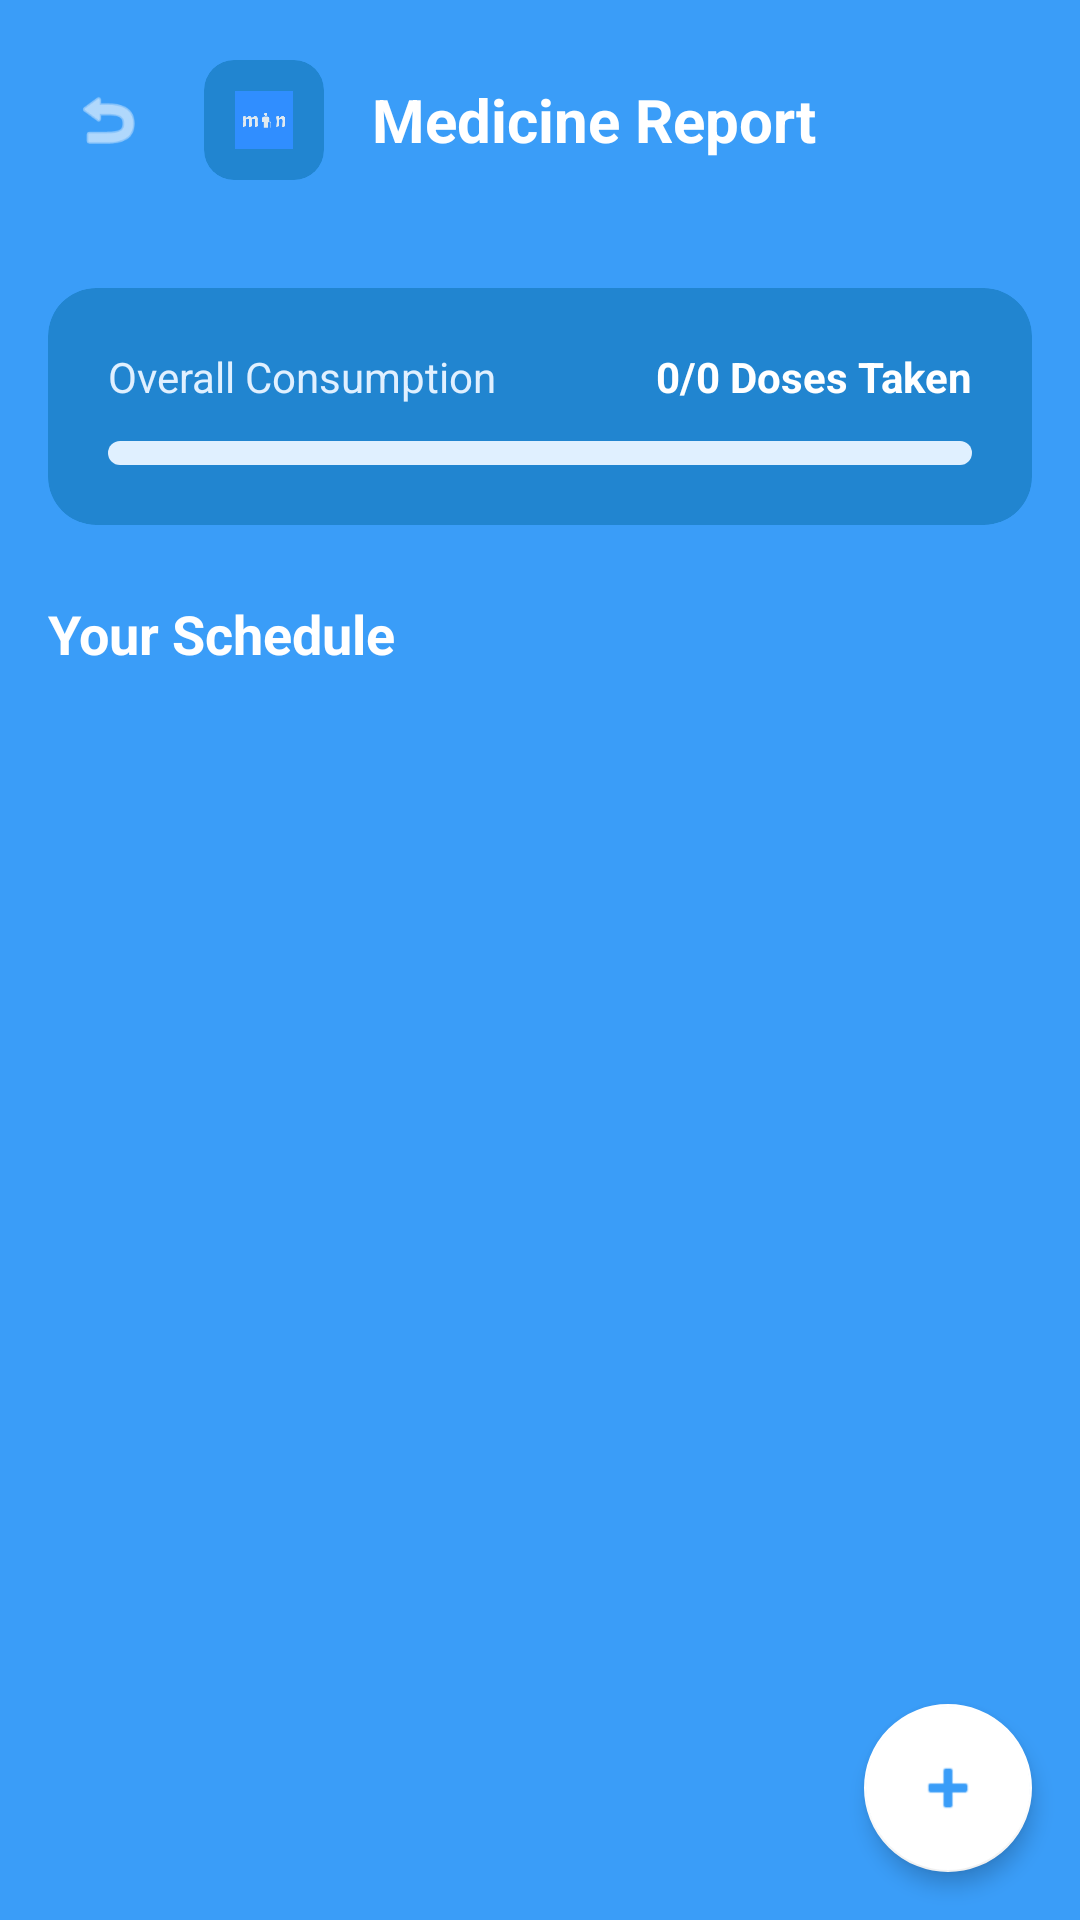

Screen size 1080 x 1920. Icon name, then its center in pixels as (x=x, y=y):
add: (x=948, y=1788)
revert: (x=109, y=120)
